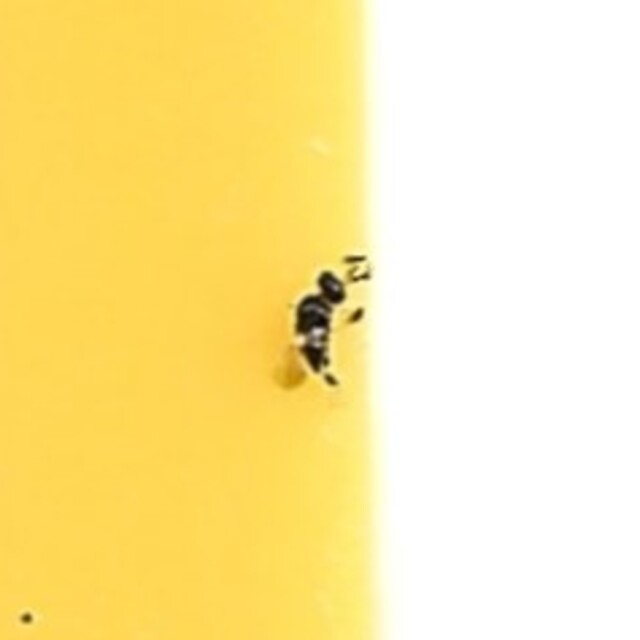Hymenoptera: (270, 253, 370, 387)
